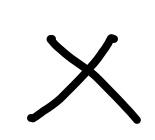mult: (27, 34, 141, 124)
